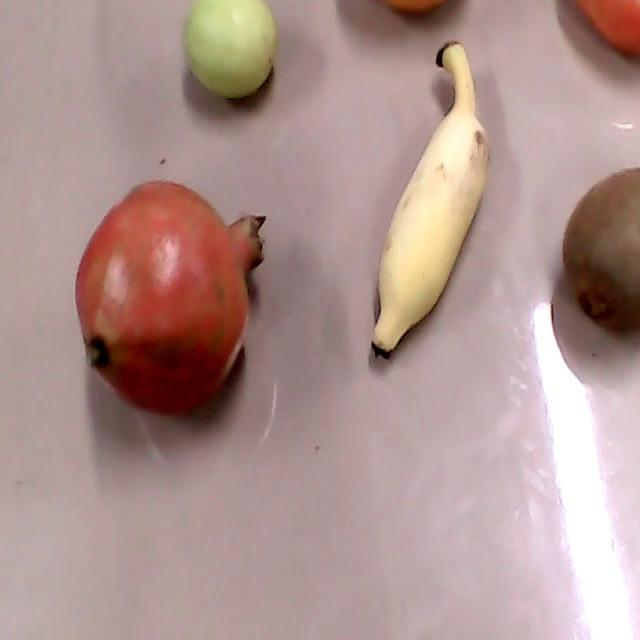kiwi: (564, 169, 639, 332)
lemon: (184, 1, 276, 99)
pomegranate: (75, 180, 267, 417)
